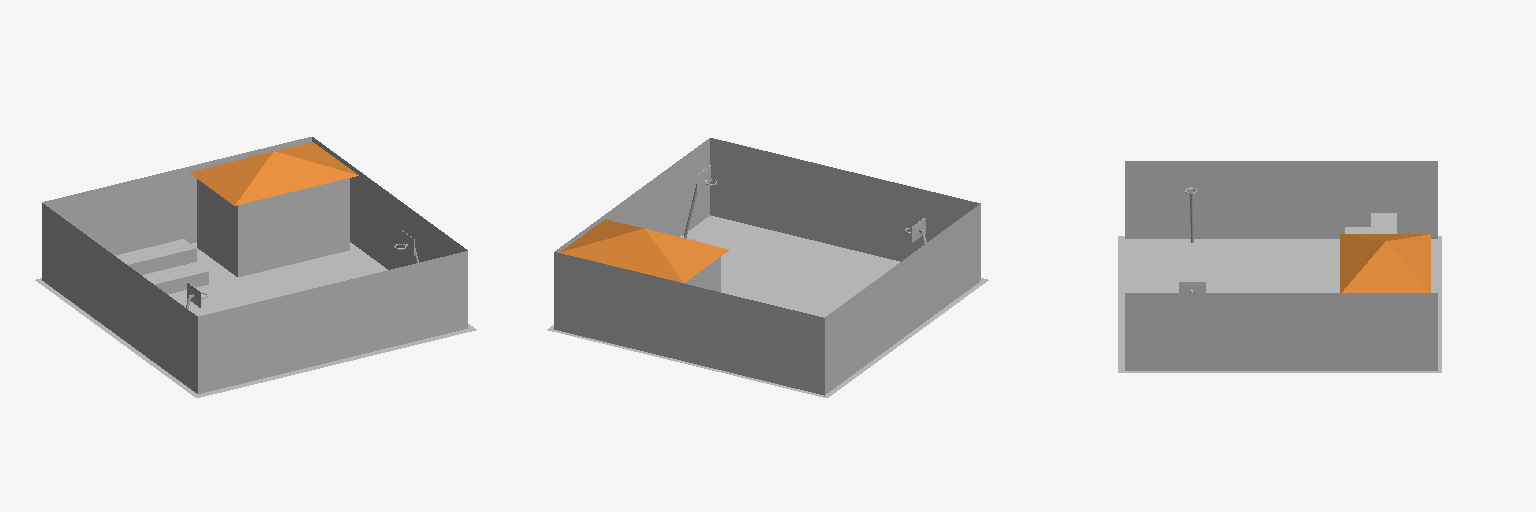
3 views of the same model, side by side, from view 1: azimuth 30°, elevation 25°; view 2: azimuth 150°, elevation 25°; view 3: azimuth 270°, elevation 25° (orthographic).
Parts seen in each view (by area): view 1: grades_Cube.003, lojinha_Cube.002, chão_Plane, Cube.001_Cube.005, Cube_Cube.001; view 2: grades_Cube.003, chão_Plane, Cube.001_Cube.005, lojinha_Cube.002; view 3: grades_Cube.003, chão_Plane, Cube.001_Cube.005, Cube_Cube.001, cesta2_Cylinder.002.
Part boxes in pixels (x1,y1,x2,y2): grades_Cube.003: (42,137,467,393); lojinha_Cube.002: (197,178,349,276); chão_Plane: (35,242,476,397); Cube.001_Cube.005: (189,142,358,205); Cube_Cube.001: (116,239,208,293); grades_Cube.003: (554,138,980,395); chão_Plane: (547,215,988,397); Cube.001_Cube.005: (560,219,728,282); lojinha_Cube.002: (569,255,720,291); grades_Cube.003: (1125,161,1437,370); chão_Plane: (1118,236,1441,372); Cube.001_Cube.005: (1340,234,1430,292); Cube_Cube.001: (1345,213,1396,233); cesta2_Cylinder.002: (1178,177,1204,245).
Bounding box in the file's own units: 40 × 13.35 × 40.
3 materials, 1 textured.